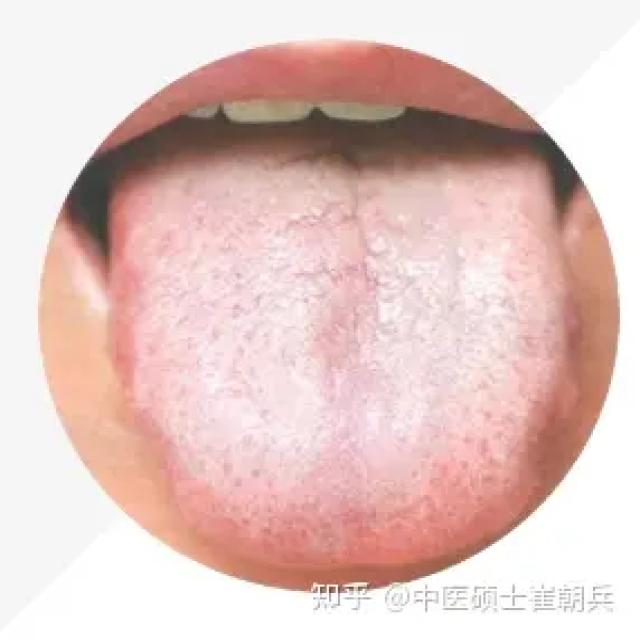tongue: (98, 147, 562, 545)
